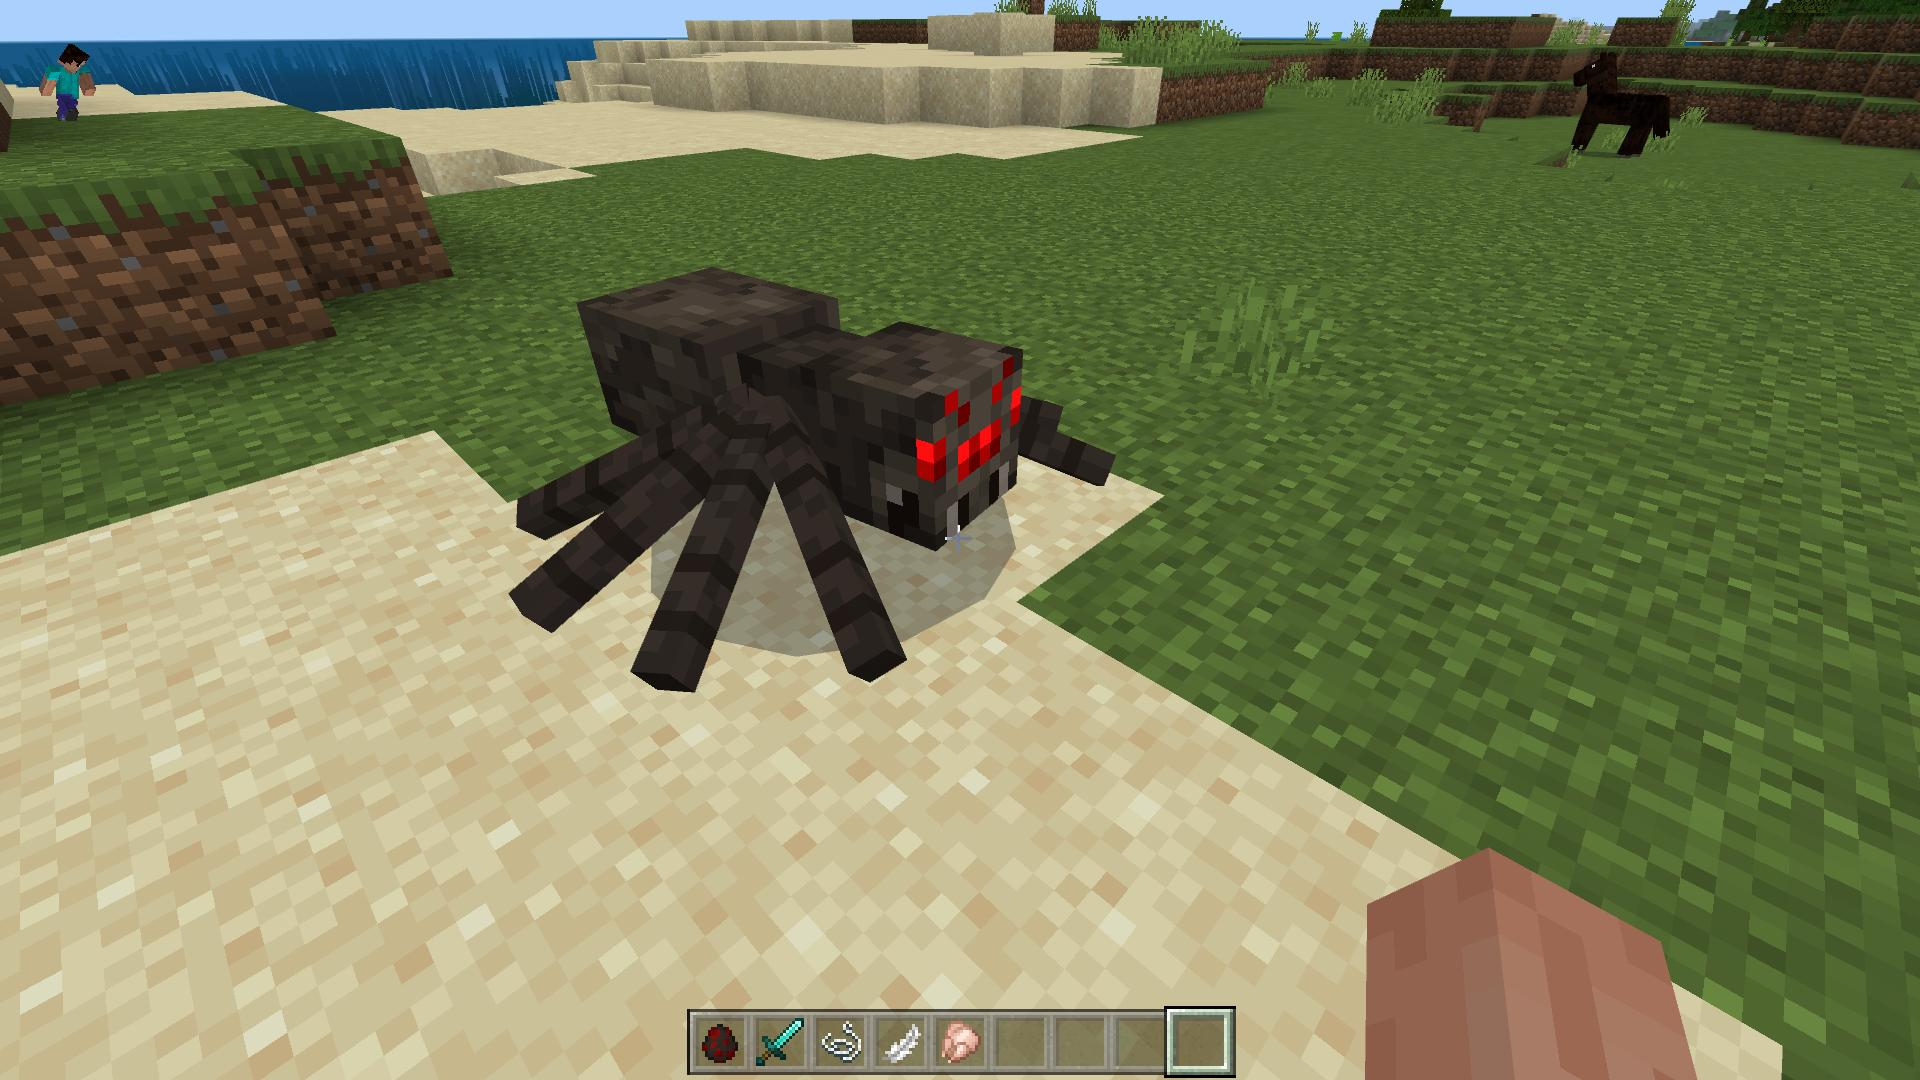spider: (513, 265, 1113, 692)
